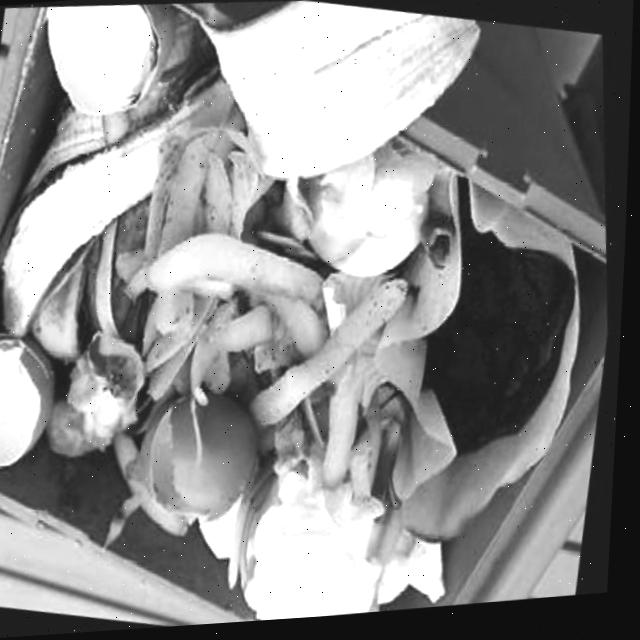Garbage: (0, 2, 585, 624)
